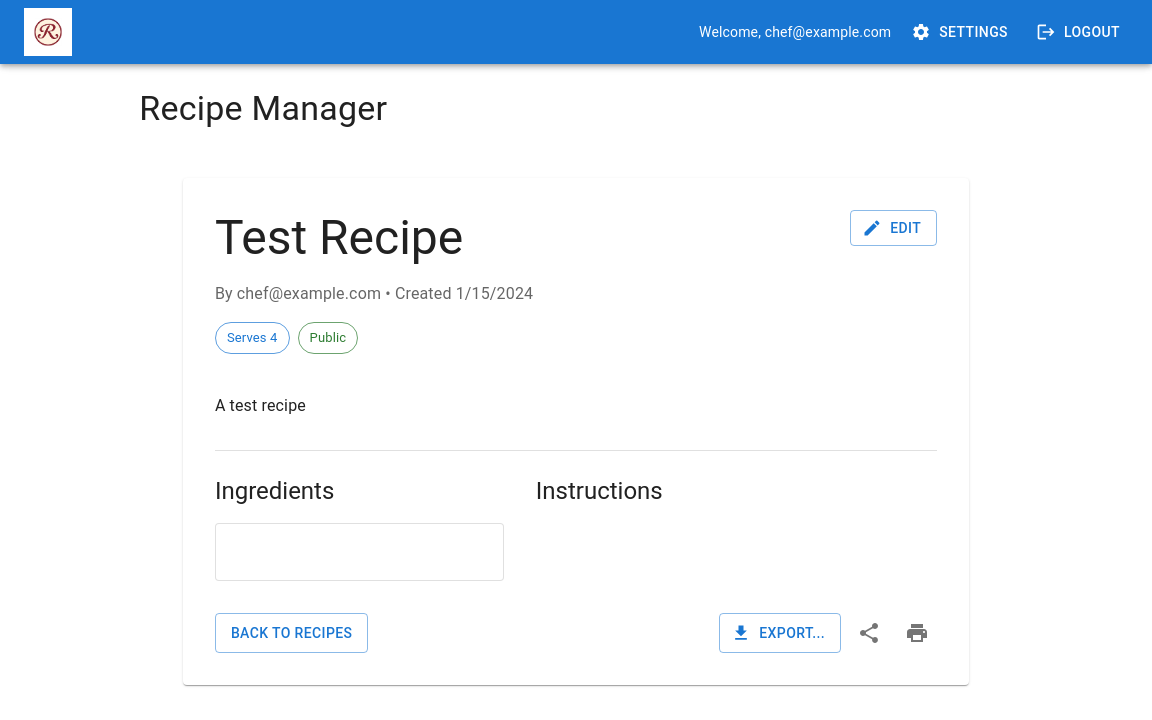
Test: RecipeViewPage › Export filename › shows a filename field in the export dialog
This screenshot has width=1152, height=720.
Expected: the heading "Test Recipe" is shown, [215,209,463,266]
Click the button "Export...": (780, 633) [719,613,841,653]
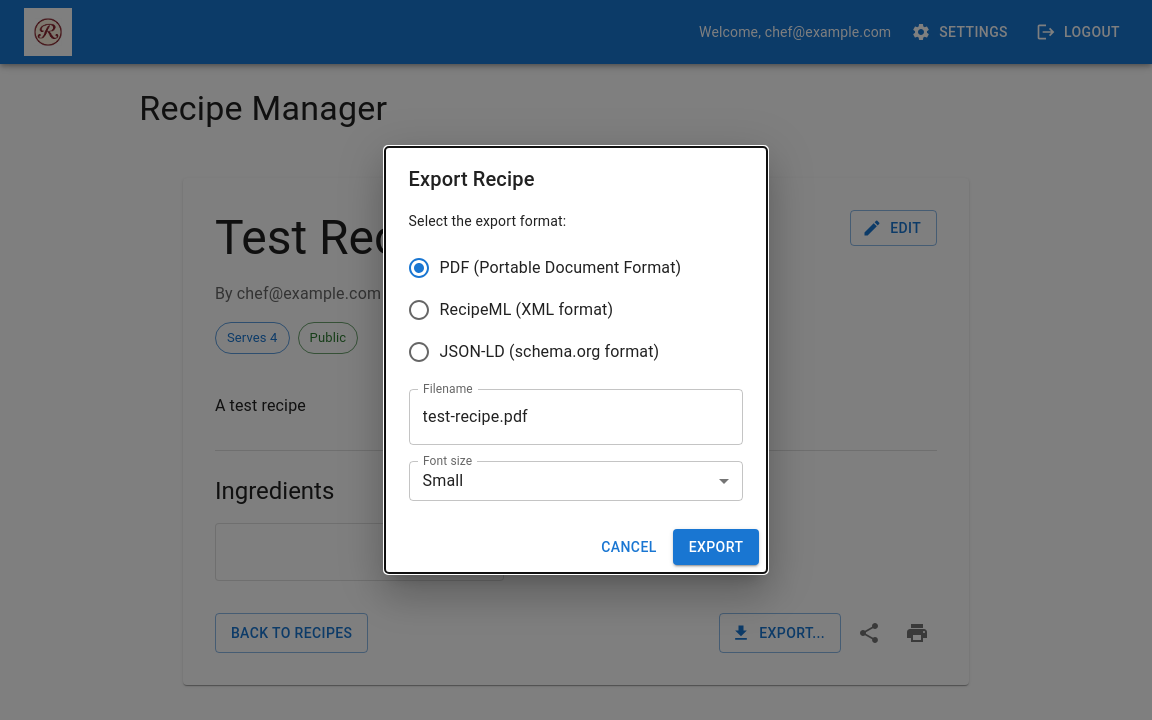
Now the field labelled "Filename" is shown, box [409,389,743,445]
